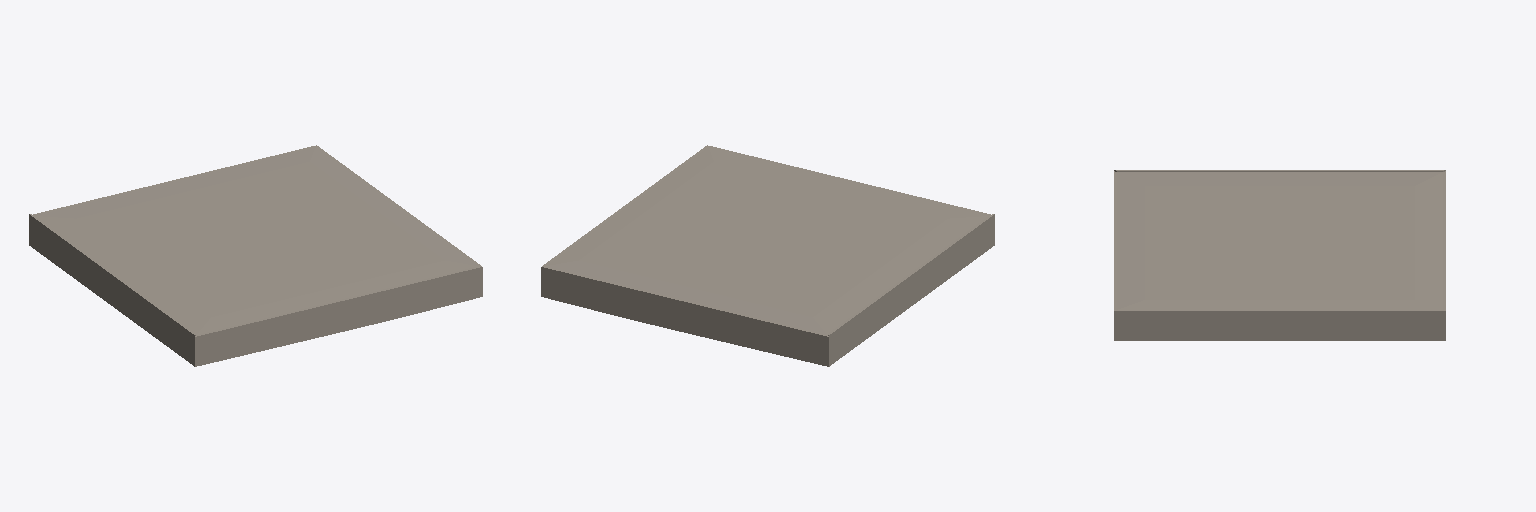
The model's file is simpleSidewalk.obj.
3 views of the same model, side by side, from view 1: azimuth 30°, elevation 25°; view 2: azimuth 150°, elevation 25°; view 3: azimuth 270°, elevation 25° (orthographic).
Visible parts, largest first — view 1: Sidewalk1_Cube.006; view 2: Sidewalk1_Cube.006; view 3: Sidewalk1_Cube.006.
Part boxes in pixels (x1,y1,x2,y2): Sidewalk1_Cube.006: (29, 145, 482, 366); Sidewalk1_Cube.006: (541, 145, 994, 366); Sidewalk1_Cube.006: (1114, 170, 1445, 340).
Size of the model in its own units: 1 by 0.1073 by 1.